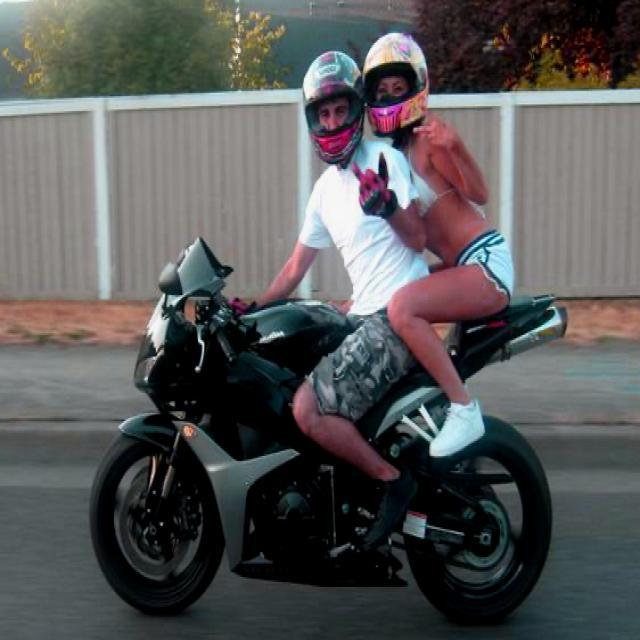Helmet: (293, 52, 367, 165)
